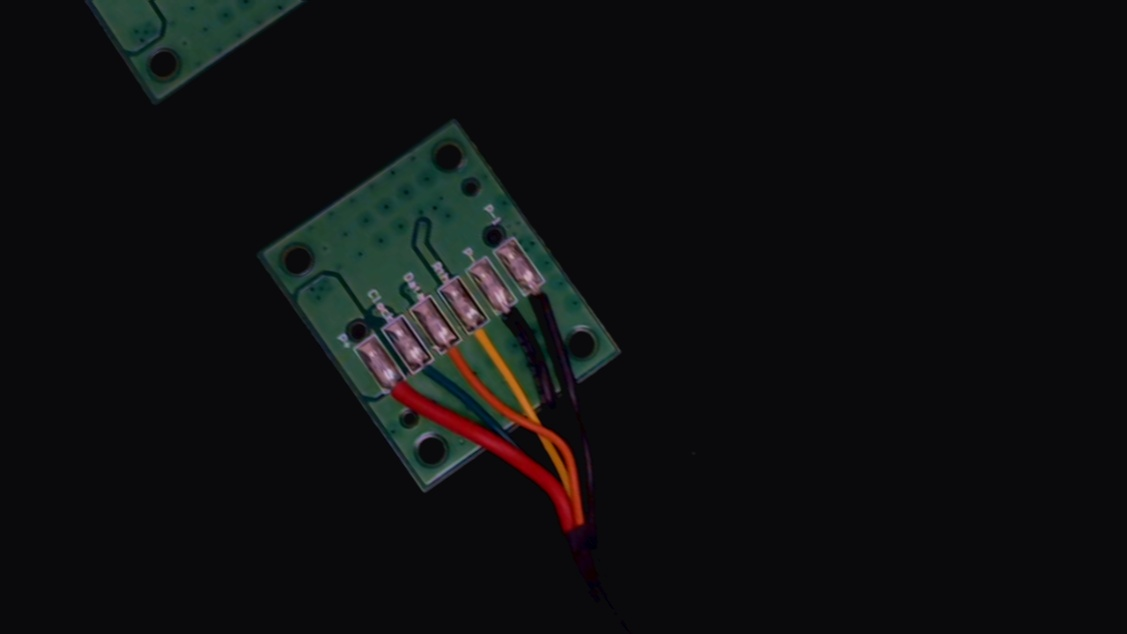Black: (486, 289, 543, 353)
Black1: (516, 270, 567, 326)
Green: (403, 344, 456, 402)
Orange: (429, 325, 483, 386)
Red: (376, 368, 430, 427)
Yellow: (458, 309, 512, 370)
